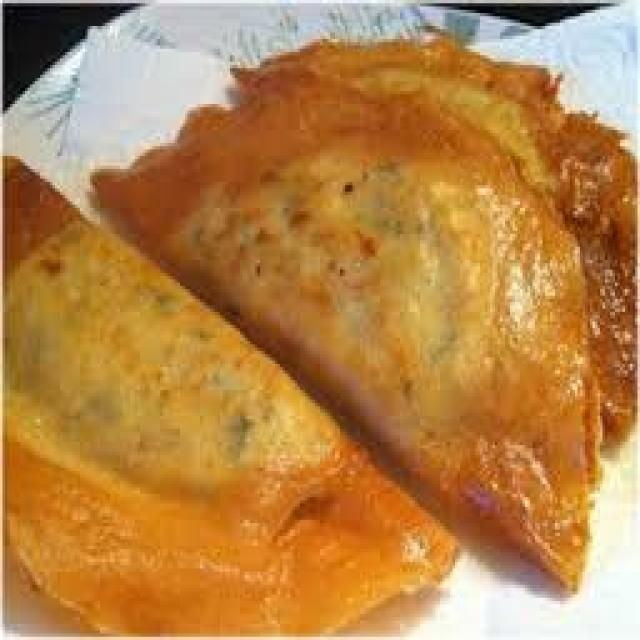brik: (95, 14, 640, 539), (2, 155, 400, 640)
